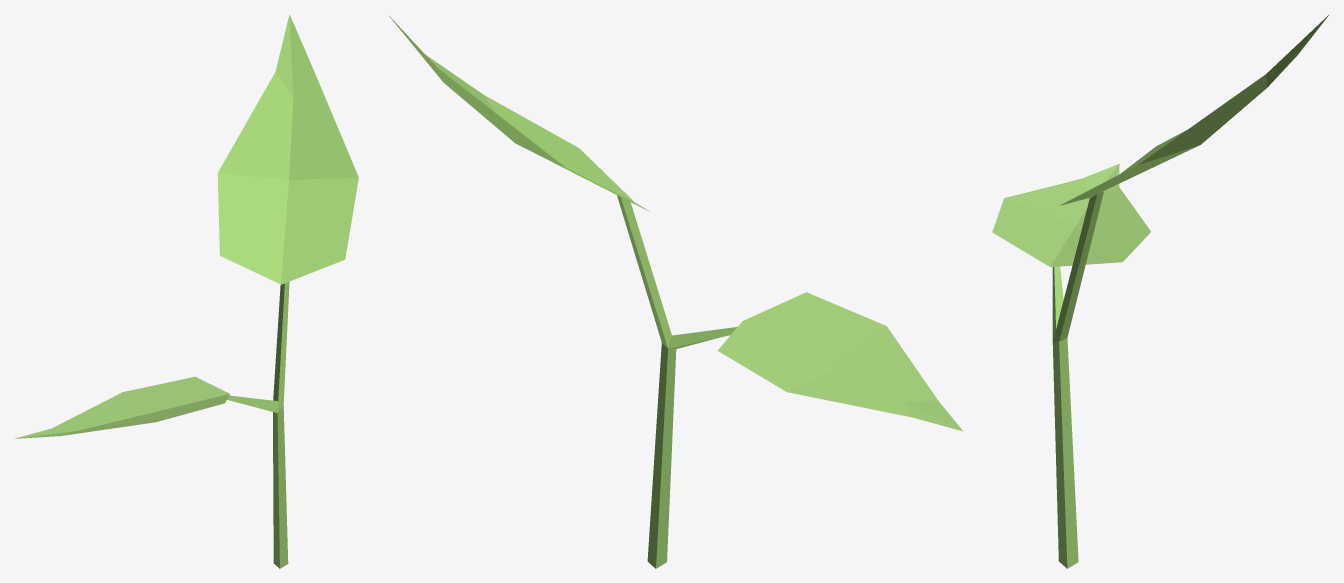
Rendered from Plant_f_TwoS_04.fbx.
The picture shows the model from 3 angles, left to right: view 1: azimuth 30°, elevation 25°; view 2: azimuth 150°, elevation 25°; view 3: azimuth 270°, elevation 25°; orthographic projection. The views are drawn at different scales.
Parts seen in each view (by area): view 1: Plant_f_TwoS_04; view 2: Plant_f_TwoS_04; view 3: Plant_f_TwoS_04.
Boxes of the visible parts, x1,y1,x2,y2 form: Plant_f_TwoS_04: (14,14,358,568); Plant_f_TwoS_04: (389,16,963,568); Plant_f_TwoS_04: (992,14,1329,568).
Size of the model in its own units: 0.5353 by 0.6561 by 0.324.
